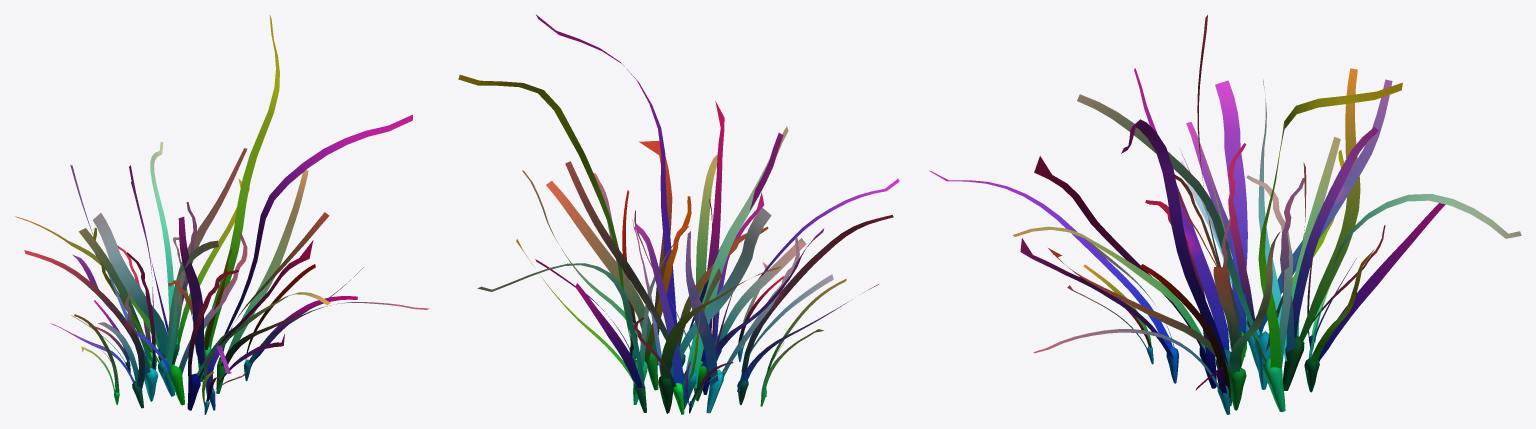
Rendered from Ribbon_Grass_tbdpec3r_High_tbdpec3r_VarD_LOD0.fbx.
3 views of the same model, side by side, from view 1: azimuth 30°, elevation 25°; view 2: azimuth 150°, elevation 25°; view 3: azimuth 270°, elevation 25° (orthographic). The views are drawn at different scales.
Parts seen in each view (by area): view 1: _d480_VarD_LOD0; view 2: _d480_VarD_LOD0; view 3: _d480_VarD_LOD0.
Boxes of the visible parts, x1,y1,x2,y2 form: _d480_VarD_LOD0: (15,15,428,414); _d480_VarD_LOD0: (458,14,899,414); _d480_VarD_LOD0: (929,14,1521,414).
Size of the model in its own units: 43.61 by 35.89 by 47.85.
